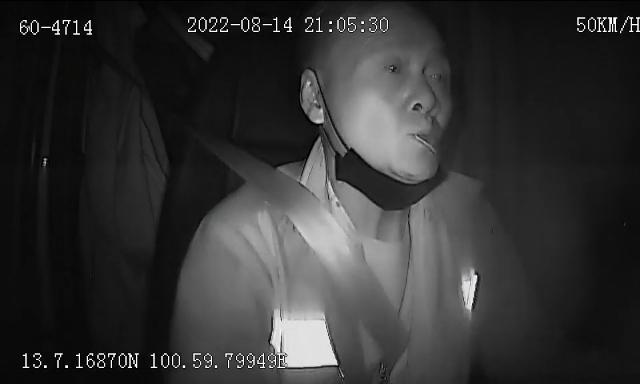SafeDriving: (378, 50, 409, 82), (422, 58, 450, 90)
Seatbelt: (206, 137, 416, 384)
